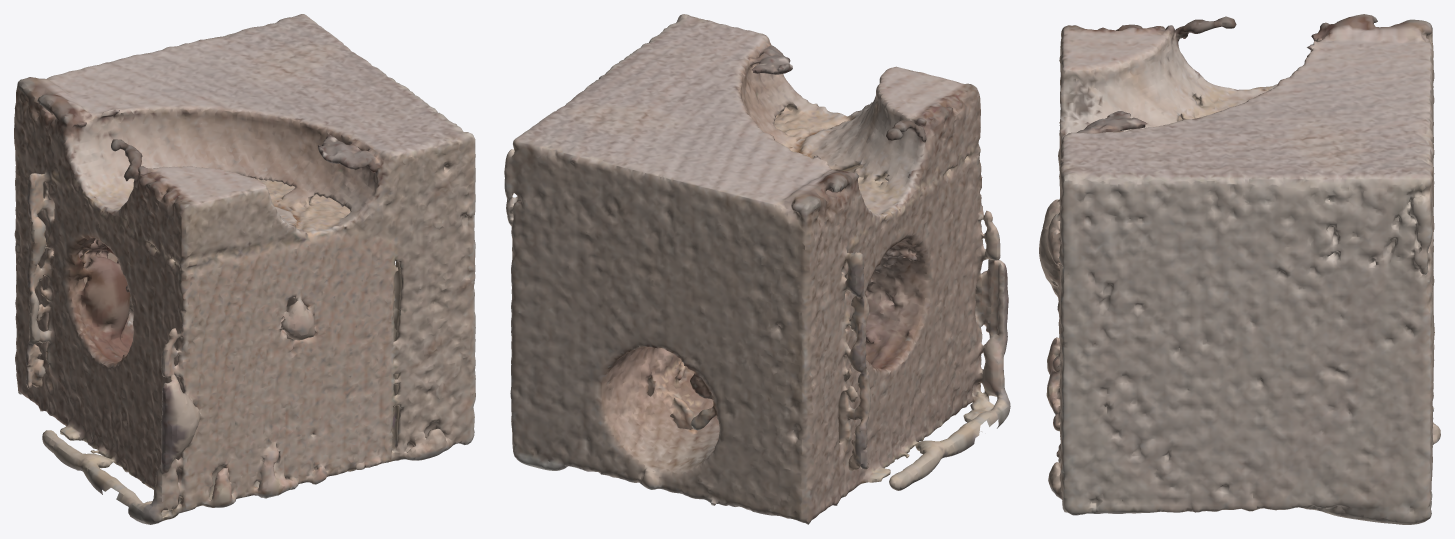
Rendered from cube-auto-candidate1-web.glb.
The picture shows the model from 3 angles, left to right: view 1: azimuth 30°, elevation 25°; view 2: azimuth 150°, elevation 25°; view 3: azimuth 270°, elevation 25°; orthographic projection. The views are drawn at different scales.
Bounding box in the file's own units: 1.45 × 1.35 × 1.36.
